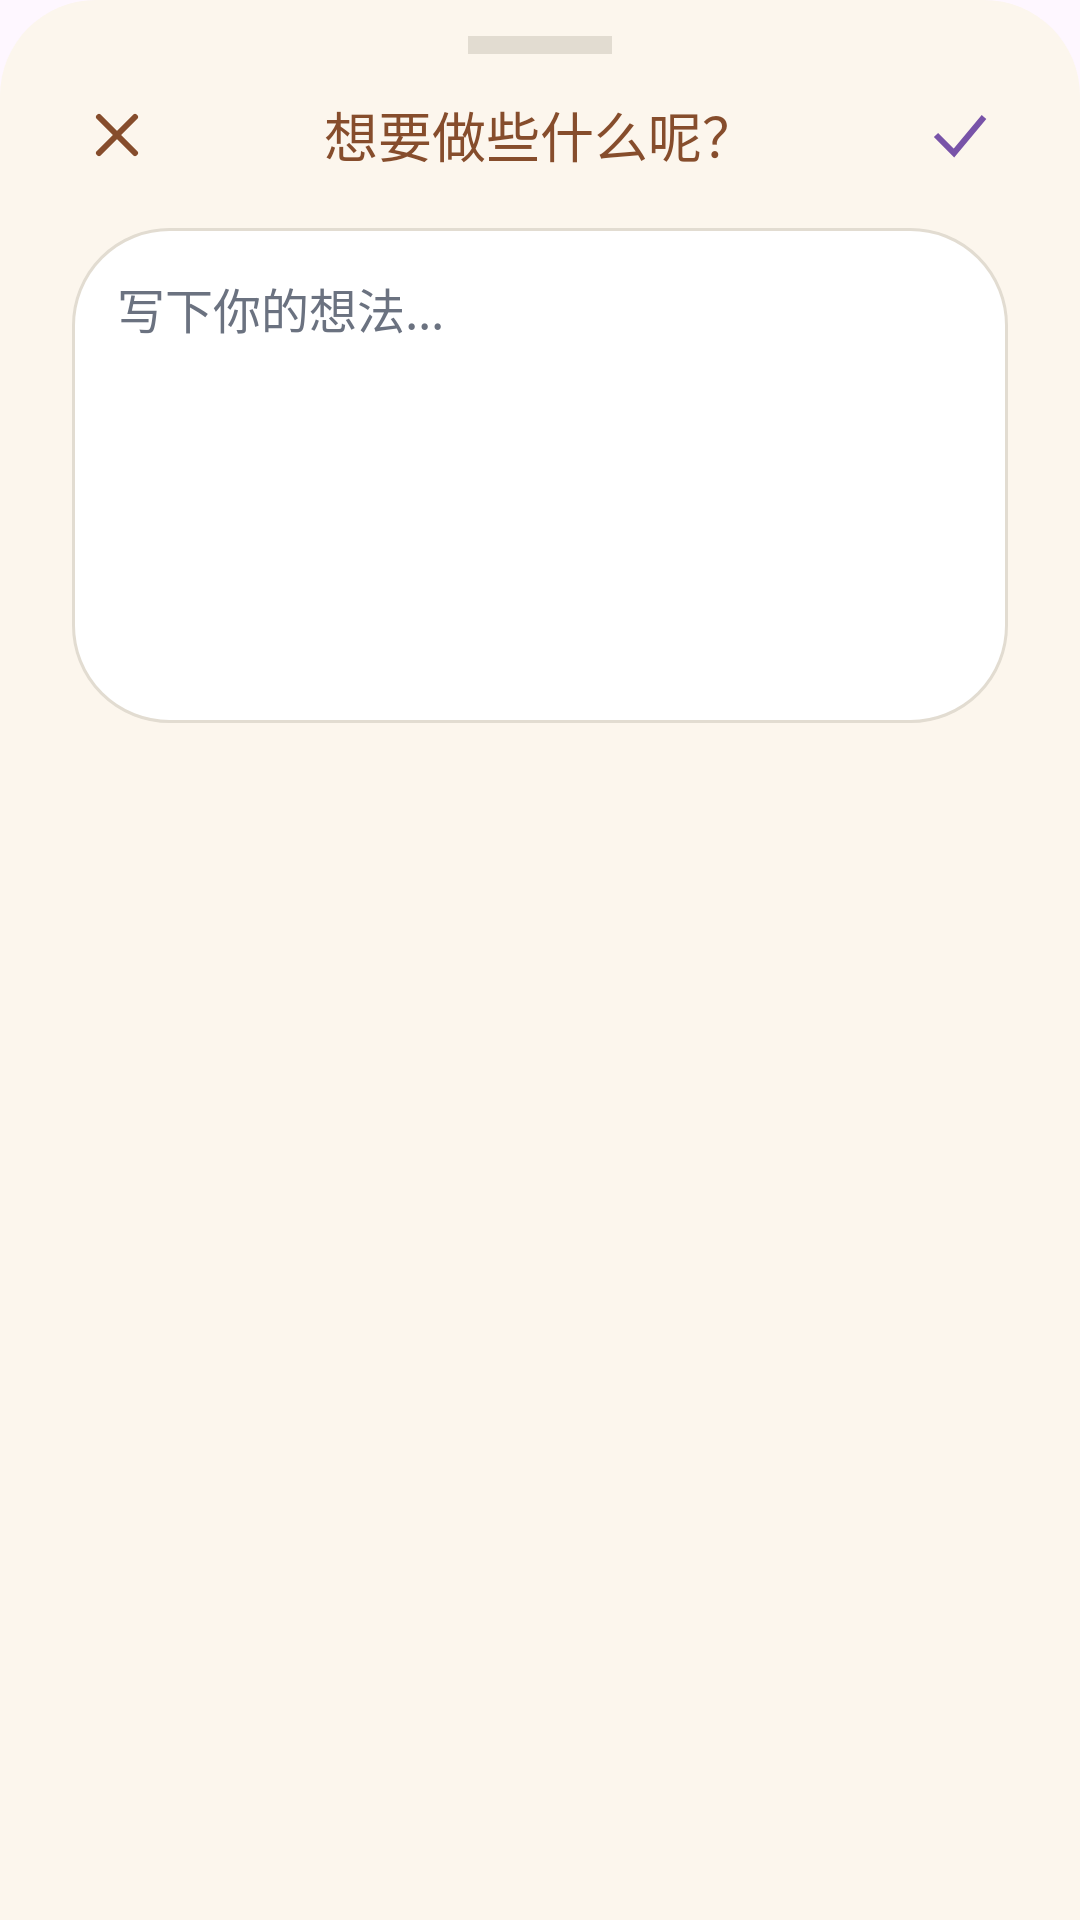

Icon bounding boxes for this 1080px x 1920px phone screenshot, format (x1=x1, y1=y1, x2=x2, y2=y2):
关闭: (x1=96, y1=114, x2=138, y2=156)
确认: (x1=934, y1=115, x2=986, y2=158)
